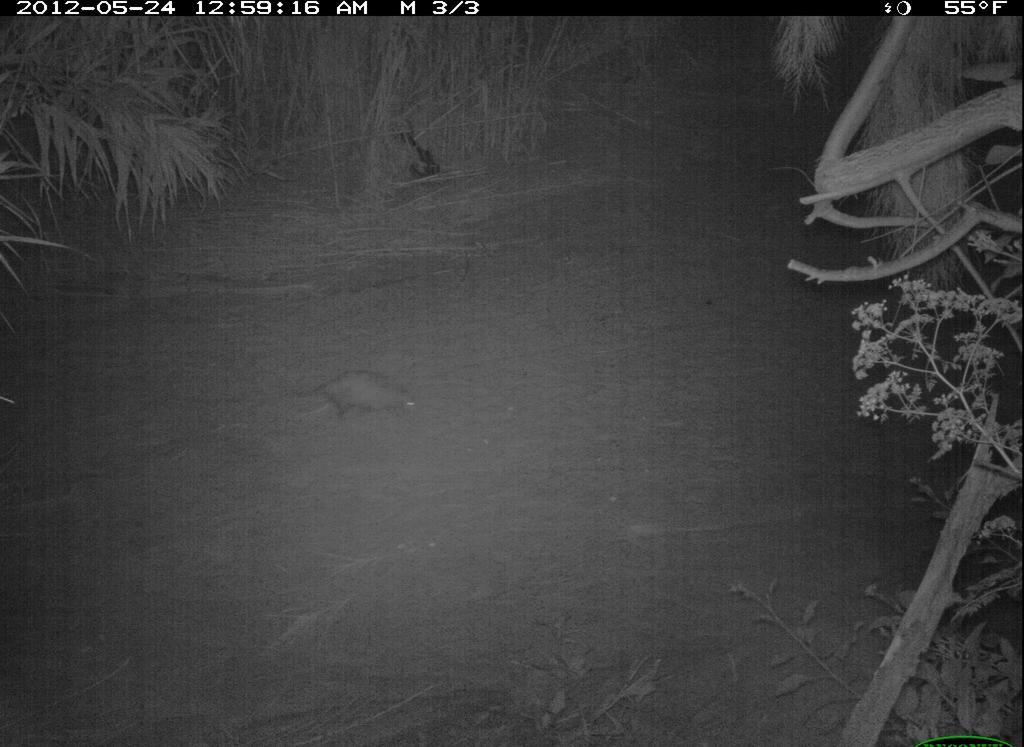opossum: (280, 359, 423, 432)
